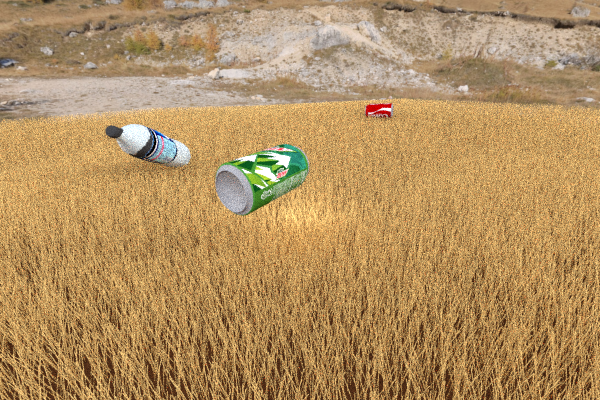bottle: (105, 124, 190, 168)
can: (215, 143, 309, 215), (364, 103, 393, 117)
